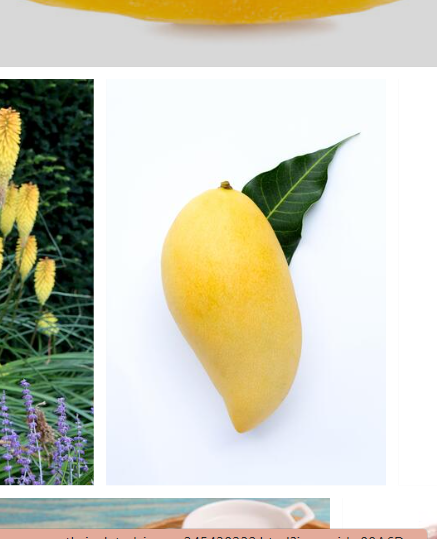mango: (163, 181, 303, 433)
